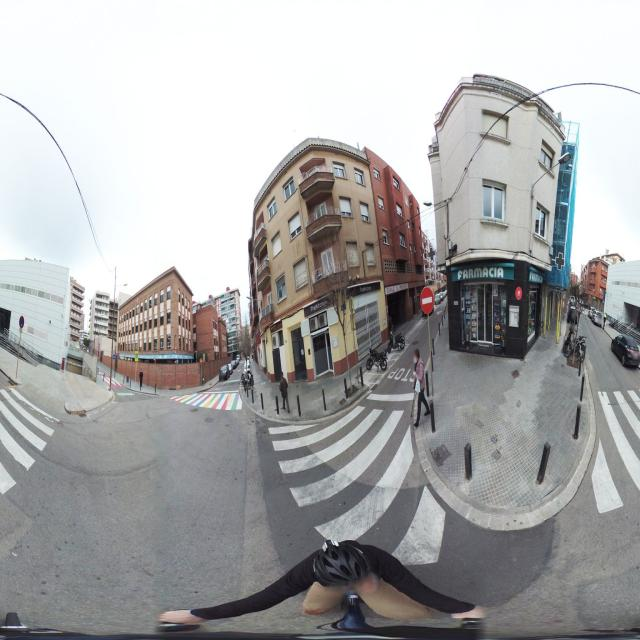forb_stopping: (19, 317, 24, 327)
